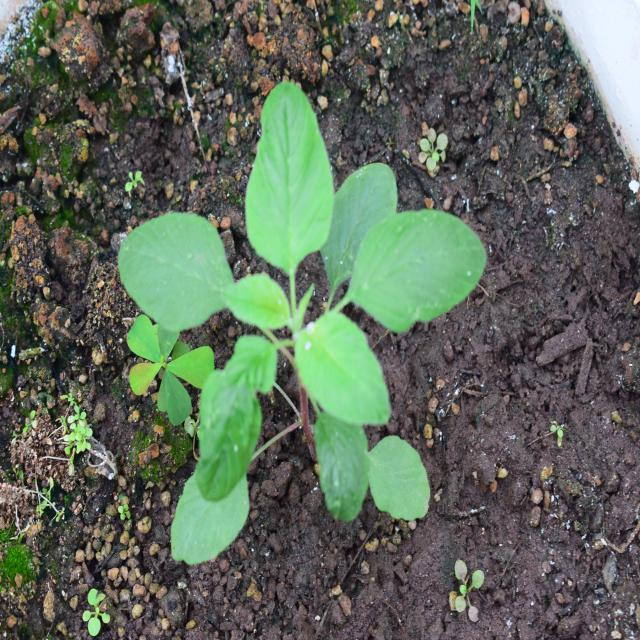pigweed: (128, 110, 470, 515)
